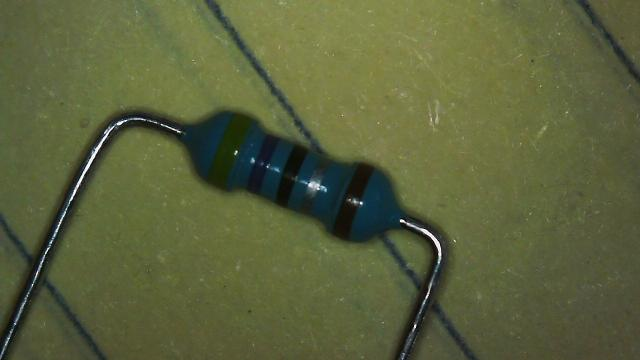black: (276, 144, 308, 206)
brown: (332, 164, 374, 238)
resistor: (180, 96, 411, 256)
silver: (302, 156, 330, 213)
violet: (247, 134, 279, 194)
yellow: (208, 113, 253, 188)
